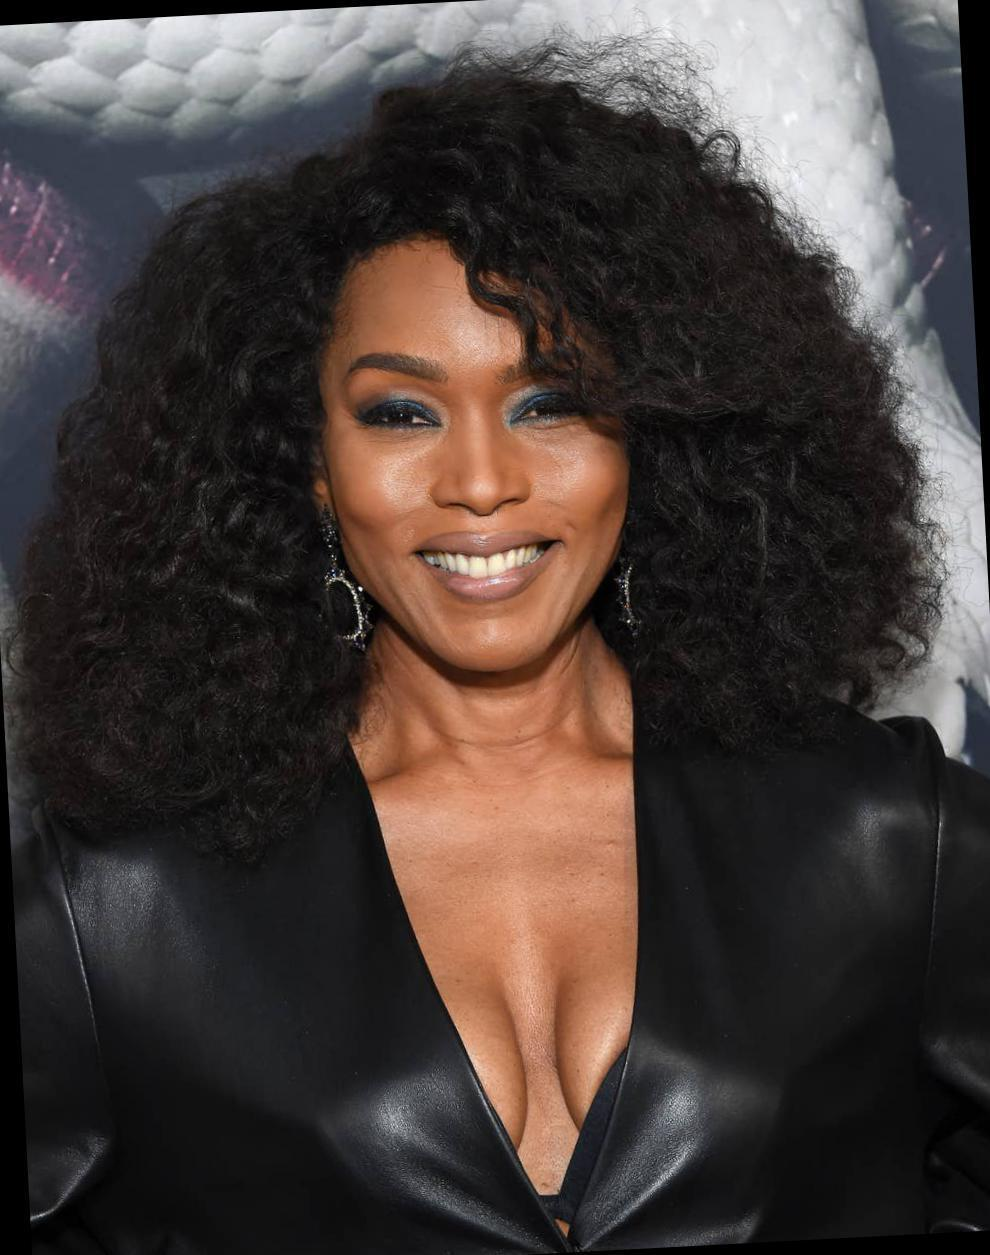Sober: (341, 276, 606, 654)
